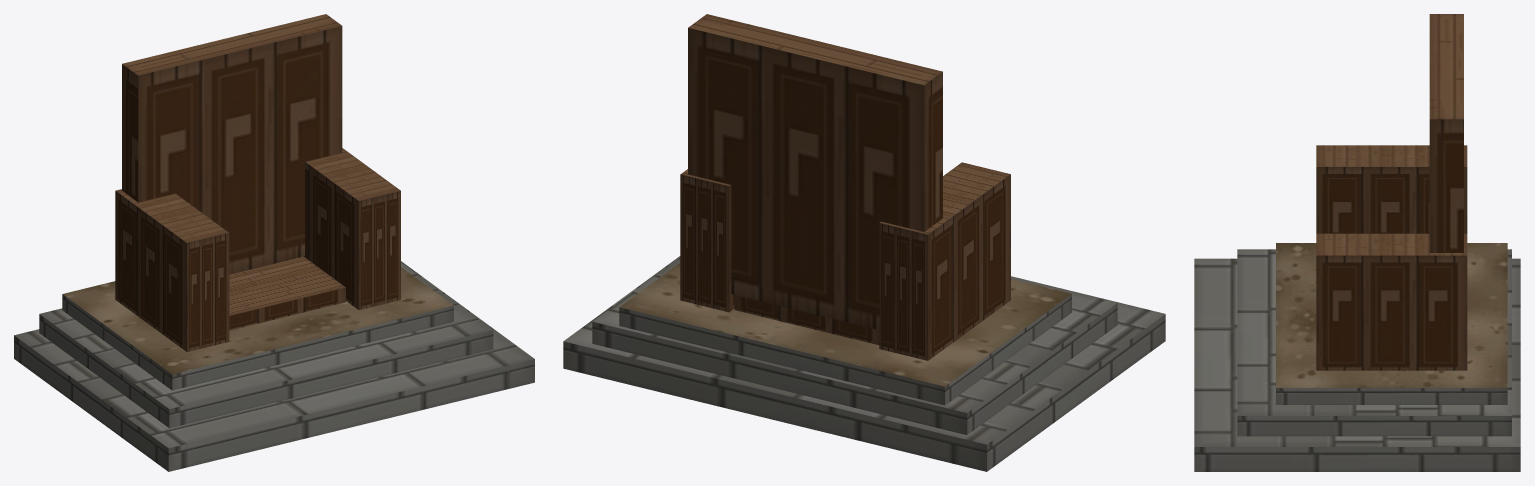
File: ae_duel_wood_throne_lod2.glb
3 renders of one model, left to right at view 1: azimuth 30°, elevation 25°; view 2: azimuth 150°, elevation 25°; view 3: azimuth 270°, elevation 25°, orthographic. The views are drawn at different scales.
Parts seen in each view (by area): view 1: ae_duel_wood_throne_lod2; view 2: ae_duel_wood_throne_lod2; view 3: ae_duel_wood_throne_lod2.
Part boxes in pixels (x1,y1,x2,y2): ae_duel_wood_throne_lod2: (14,14,534,471); ae_duel_wood_throne_lod2: (563,14,1165,471); ae_duel_wood_throne_lod2: (1194,14,1520,471).
Size of the model in its own units: 2.6 by 2 by 1.9.
1 material, 1 textured.
